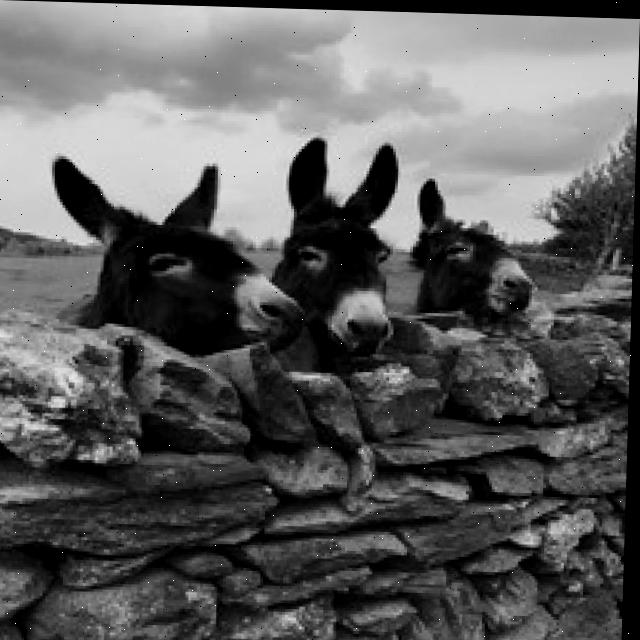Donkey: (44, 153, 310, 358), (267, 134, 399, 357), (405, 175, 538, 324)
